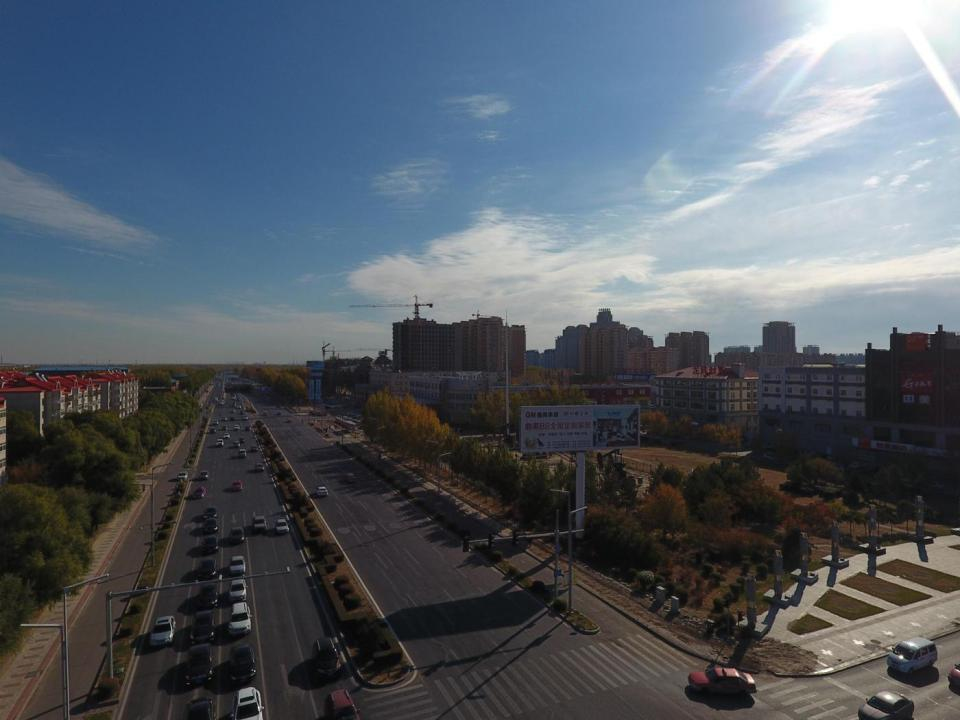car: (688, 667, 756, 696), (858, 690, 914, 720), (313, 637, 342, 682), (186, 642, 212, 686), (323, 690, 360, 720), (230, 642, 256, 683), (232, 687, 264, 720), (150, 615, 176, 647), (190, 610, 214, 644), (183, 696, 216, 720), (228, 602, 251, 636), (198, 582, 218, 608), (228, 578, 246, 602), (197, 558, 216, 579), (202, 535, 218, 555), (229, 556, 246, 574), (920, 479, 945, 490), (230, 526, 244, 544), (252, 516, 266, 532), (275, 519, 289, 534), (204, 518, 217, 534), (204, 506, 217, 520), (193, 486, 205, 499), (764, 452, 781, 461), (825, 464, 844, 472), (315, 486, 328, 497), (344, 472, 356, 483), (849, 462, 865, 469), (826, 454, 842, 461), (760, 443, 775, 450), (233, 480, 242, 491), (177, 471, 188, 480), (806, 451, 822, 457), (867, 466, 882, 472), (199, 470, 208, 480), (255, 463, 264, 472), (355, 425, 368, 431), (238, 449, 246, 458), (250, 445, 258, 453), (216, 439, 224, 446), (233, 441, 240, 448), (223, 433, 230, 439), (356, 422, 366, 426), (342, 412, 351, 416), (331, 400, 340, 404), (323, 405, 332, 409), (210, 428, 216, 434), (233, 424, 239, 430), (245, 425, 251, 431), (221, 425, 227, 430), (276, 410, 281, 415), (238, 438, 244, 442), (213, 420, 218, 424), (242, 417, 248, 420), (237, 404, 241, 408), (230, 408, 234, 412), (287, 419, 292, 422), (230, 417, 234, 420), (222, 417, 226, 420), (277, 404, 280, 407), (214, 396, 217, 399), (220, 402, 223, 405), (237, 398, 240, 401), (240, 411, 243, 414), (217, 384, 220, 386), (215, 399, 218, 401), (222, 400, 224, 403), (233, 395, 235, 398), (233, 404, 235, 407), (233, 397, 235, 399), (236, 394, 238, 396)
truck: (309, 410, 326, 415), (316, 410, 327, 415), (231, 391, 233, 395)
van: (887, 636, 937, 674), (346, 412, 358, 415), (262, 410, 268, 415), (232, 402, 236, 404)
